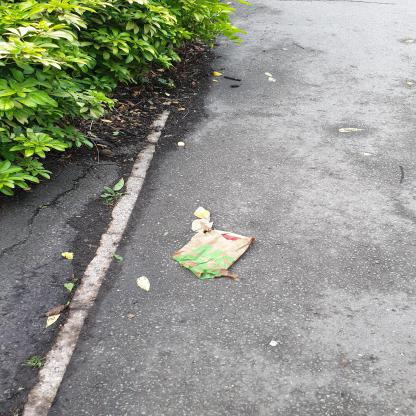kagit: (173, 231, 257, 281)
